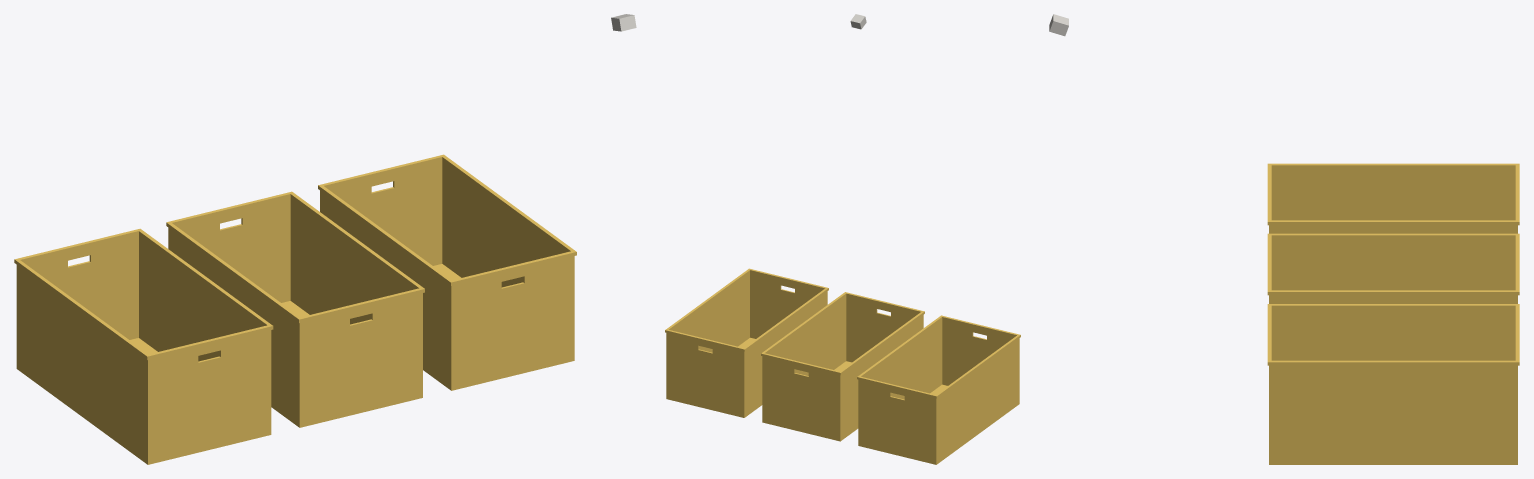
The model's file is spiral_parcel_chute.glb.
3 views of the same model, side by side, from view 1: azimuth 30°, elevation 25°; view 2: azimuth 150°, elevation 25°; view 3: azimuth 270°, elevation 25° (orthographic). The views are drawn at different scales.
Visible parts, largest first — view 1: Cube.031, Cube.003, Cube.018, Cube.033, Cube.017, Cube.002, Cube.032, Cube.001, Cube.016, Cube.007, Cube.022, Cube.037 (+11 smaller); view 2: Cube.031, Cube.007, Cube.037, Cube.022, Cube.017, Cube.032, Cube.002, Cube.001, Cube.016, Cube.018, Cube.033, Cube.003 (+6 smaller); view 3: Cube.002, Cube.001, Cube.016, Cube.031, Cube.017, Cube.032, Cube.012, Cube.027, Cube.042, Cube, Cube.026, Cube.041.
Part boxes in pixels (box(x1,y1,x2,y2)): Cube.031: box(16, 259, 150, 464); Cube.003: box(453, 271, 572, 390); Cube.018: box(302, 308, 420, 425); Cube.033: box(150, 345, 268, 461); Cube.017: box(289, 192, 422, 397); Cube.002: box(441, 155, 574, 360); Cube.032: box(138, 229, 271, 435); Cube.001: box(320, 185, 453, 390); Cube.016: box(168, 222, 301, 427); Cube.007: box(344, 176, 442, 265); Cube.022: box(192, 213, 290, 302); Cube.037: box(40, 250, 138, 339); Cube.031: box(935, 334, 1019, 464); Cube.007: box(667, 342, 742, 417); Cube.037: box(860, 389, 934, 464); Cube.022: box(764, 366, 838, 440); Cube.017: box(762, 292, 846, 422); Cube.032: box(858, 316, 942, 446); Cube.002: box(666, 269, 750, 399); Cube.001: box(743, 288, 827, 417); Cube.016: box(839, 311, 923, 441); Cube.018: box(846, 306, 908, 362); Cube.033: box(942, 329, 1004, 385); Cube.003: box(750, 282, 812, 338); Cube.002: box(1269, 360, 1517, 464); Cube.001: box(1269, 304, 1517, 360); Cube.016: box(1269, 234, 1517, 290); Cube.031: box(1269, 164, 1517, 220); Cube.017: box(1269, 290, 1517, 303); Cube.032: box(1269, 220, 1517, 233); Cube.012: box(1267, 361, 1519, 365); Cube.027: box(1267, 291, 1519, 295); Cube.042: box(1267, 221, 1519, 225); Cube: box(1269, 462, 1517, 464); Cube.026: box(1268, 233, 1519, 234); Cube.041: box(1268, 163, 1519, 164).
Bounding box in the file's own units: 2.26 × 2.23 × 2.26.
